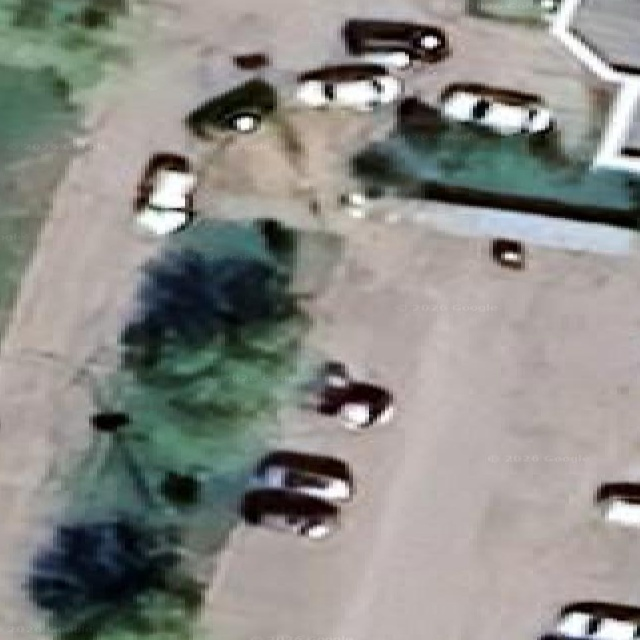car: (305, 362, 394, 429), (439, 83, 553, 135), (185, 78, 276, 138), (253, 450, 353, 501), (343, 19, 448, 67), (134, 153, 195, 234), (296, 63, 401, 110), (240, 488, 338, 538), (542, 602, 639, 639), (319, 382, 394, 429), (595, 483, 639, 526), (397, 96, 445, 135), (491, 238, 524, 269), (316, 361, 350, 387), (90, 411, 129, 433), (338, 191, 366, 217), (233, 52, 269, 70), (537, 0, 561, 21)
